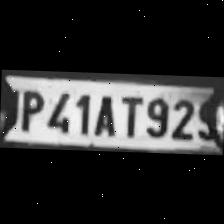1: (69, 89, 91, 135)
2: (166, 93, 196, 141)
4: (41, 87, 73, 133)
9: (140, 93, 170, 138)
A: (88, 90, 118, 138)
P: (15, 86, 44, 132)
T: (115, 90, 141, 138)
